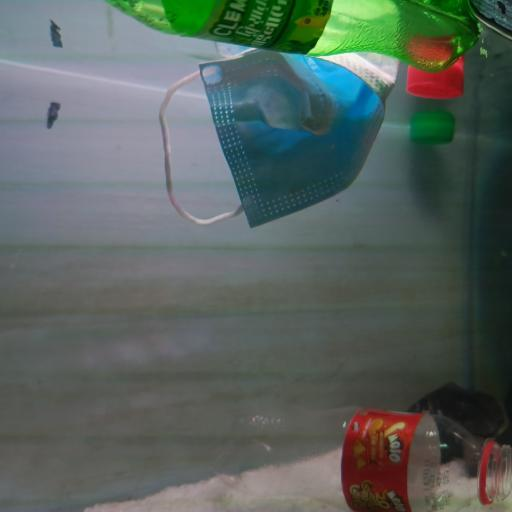bottle_cap: (404, 61, 465, 100), (409, 118, 457, 146)
mask: (156, 47, 396, 232)
plastic_bottle: (141, 405, 512, 512), (108, 0, 475, 56)
